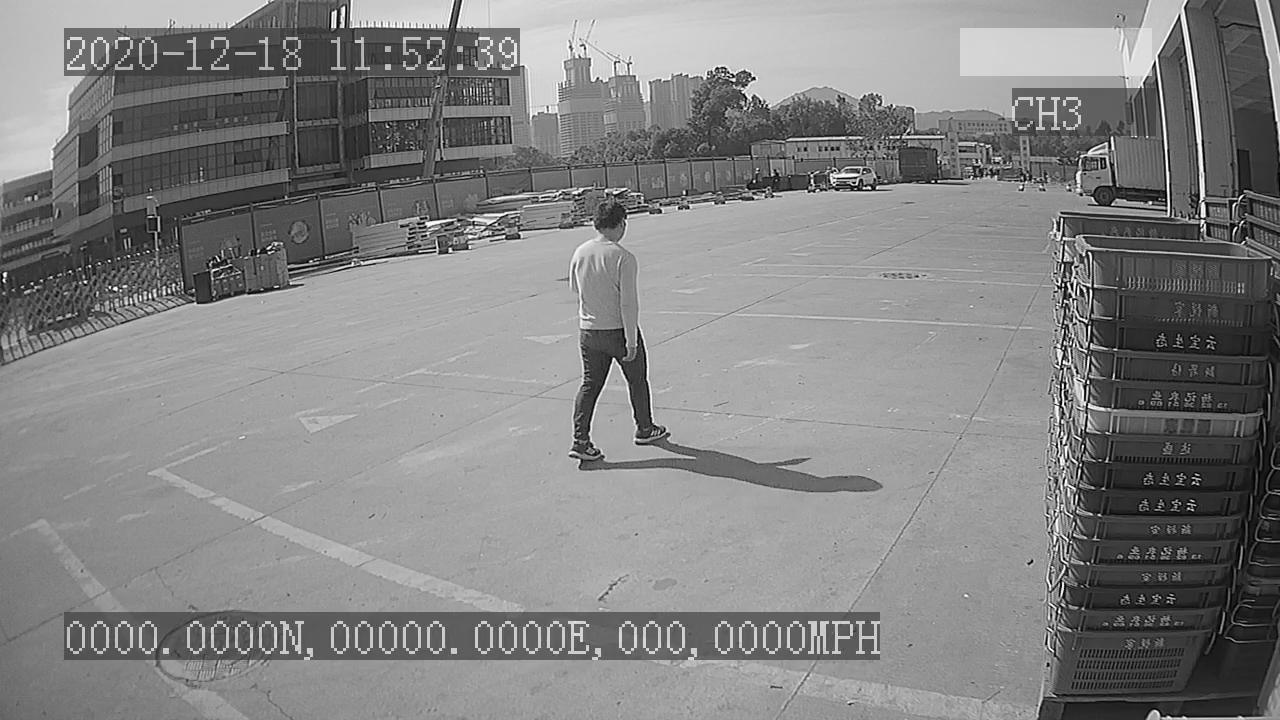person: (560, 197, 676, 470)
